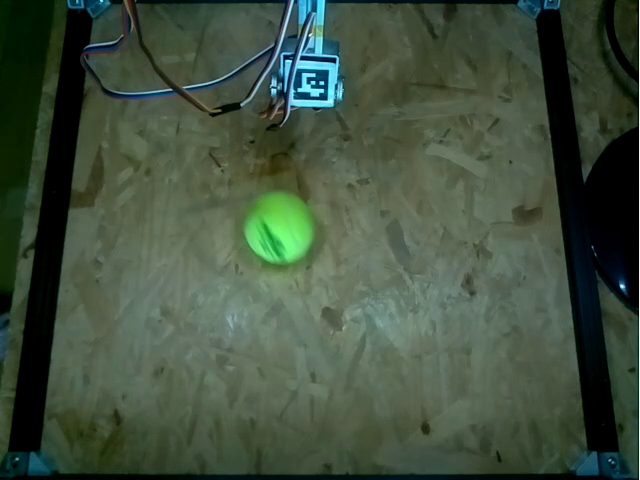tennis_ball: (244, 192, 318, 264)
